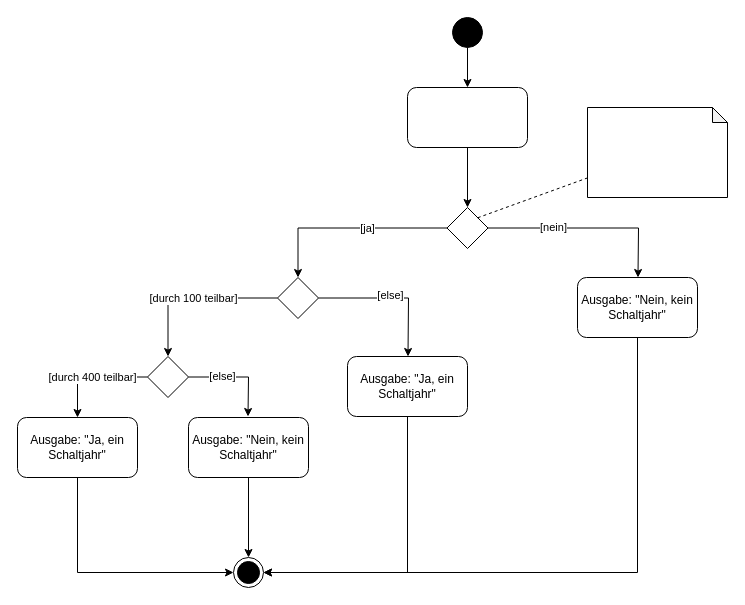
Image size: 745x605. Some labels were removed from this diagram. Each missing label, with the centre of its shape:
Eingabe des Jahres: (x=467, y=117)
Ist die Zahl durch 4 teilbar?: (x=657, y=152)
